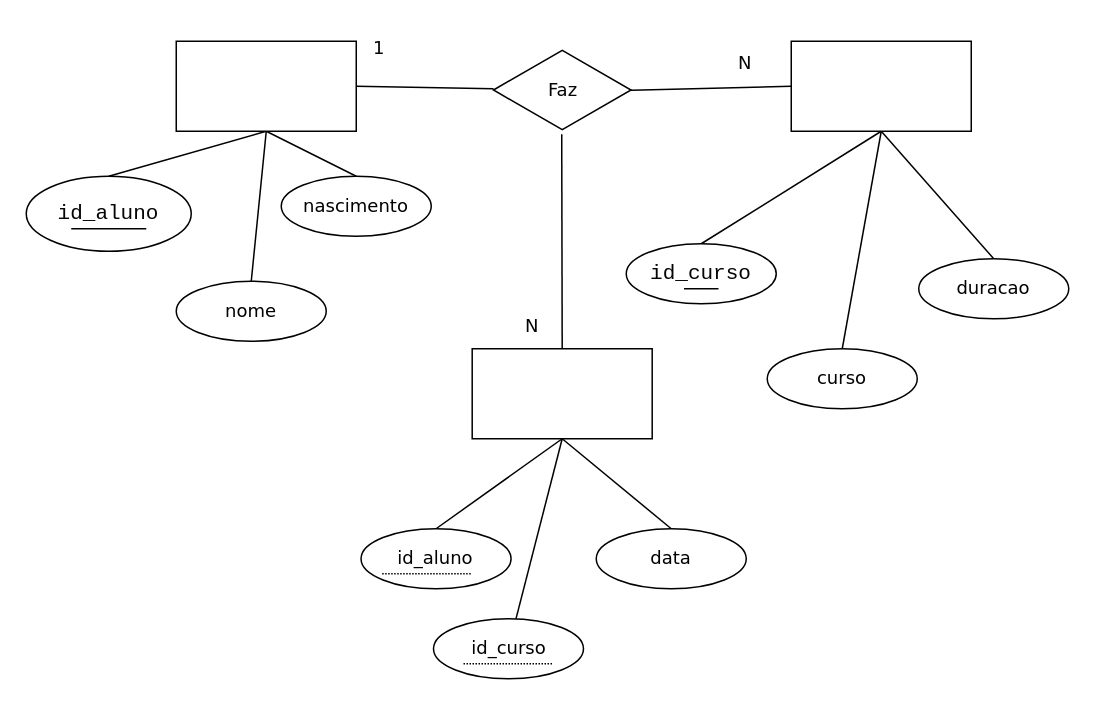
Image size: 1095x705. Some labels were removed from this diagram. The shapes that lost their labels are listed below. From the top down, each one's centre as x and y in pixels, then its label:
At point 265,85: "alunos".
At point 880,85: "cursos".
At point 561,393: "cursados".
